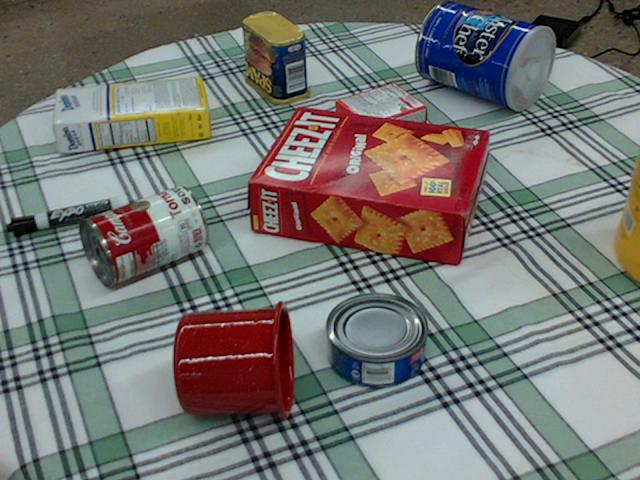cracker_box: (248, 104, 489, 263)
gelatin_box: (333, 79, 426, 144)
large_marker: (5, 195, 127, 236)
master_chef_can: (414, 2, 553, 109)
mug: (171, 296, 295, 417)
mustard_bottle: (614, 144, 639, 281)
potted_meat_can: (241, 11, 309, 103)
sugar_box: (52, 77, 210, 151)
tomato_soup_can: (78, 183, 207, 286)
tuna_fish_can: (325, 292, 428, 388)
